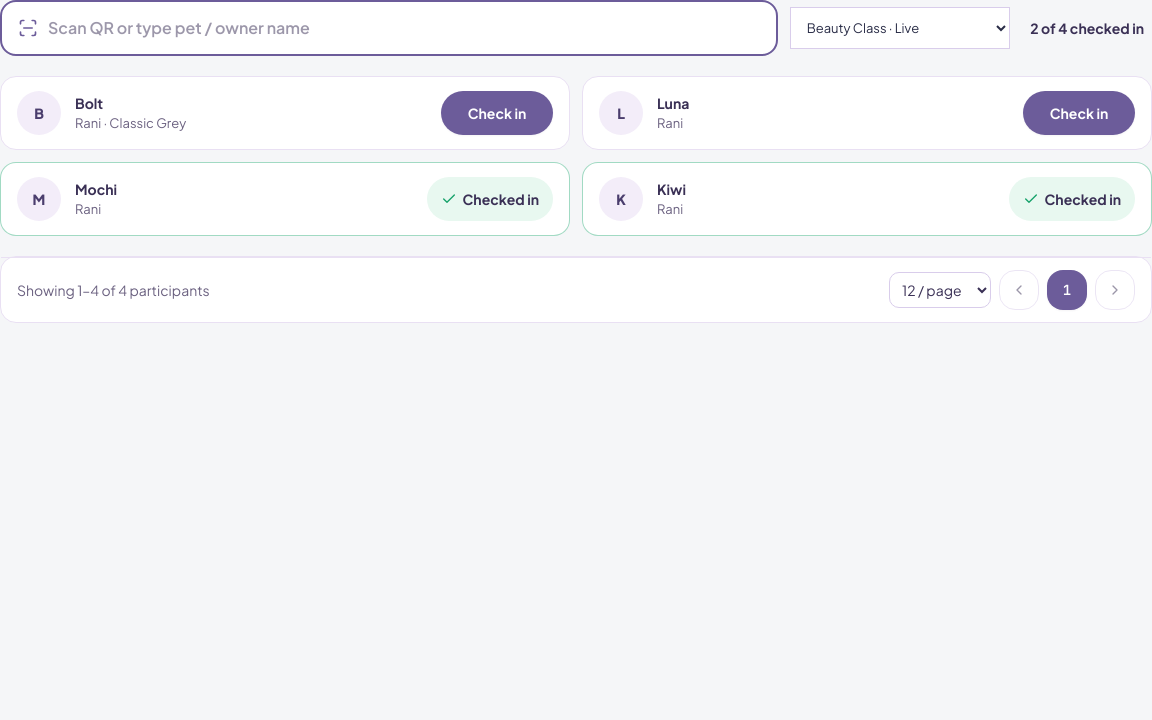
Test: EventParticipants › asks before undoing a check-in, and only where the API allows it
Click the button with aria-label "Checked in: Mochi. Undo" at (490, 199), box top-left (426, 177), bottom-right (553, 221)
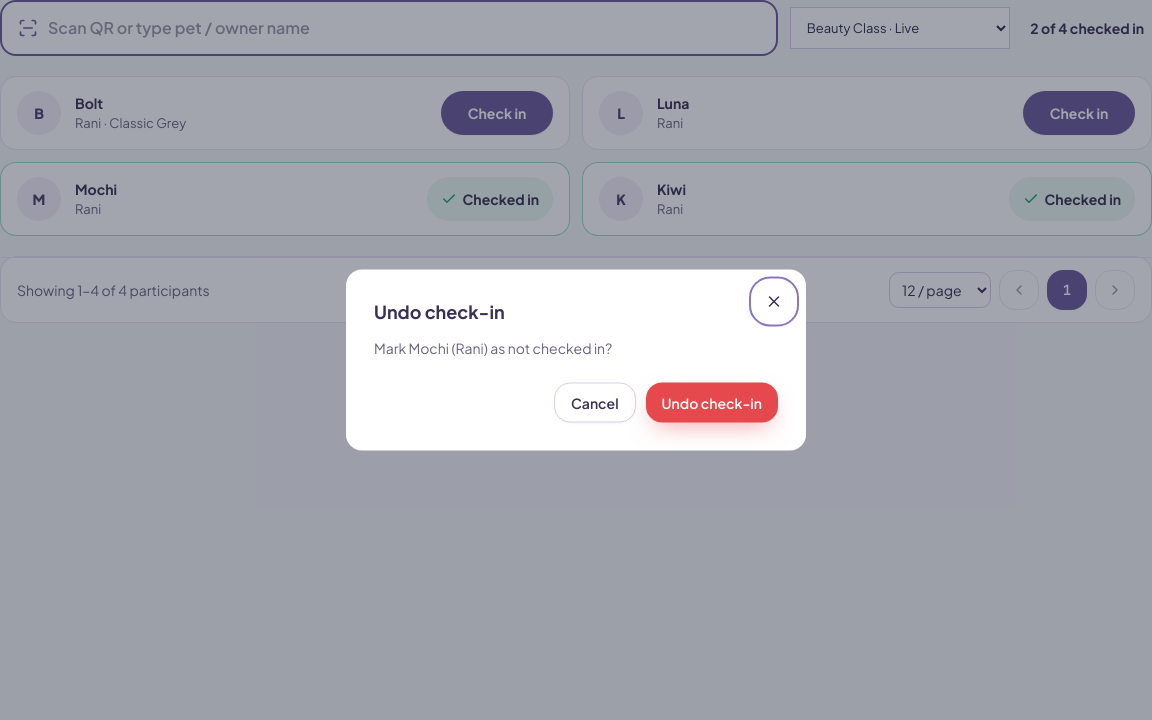
Click the button "Undo check-in" at (712, 402), box top-left (646, 382), bottom-right (778, 422)
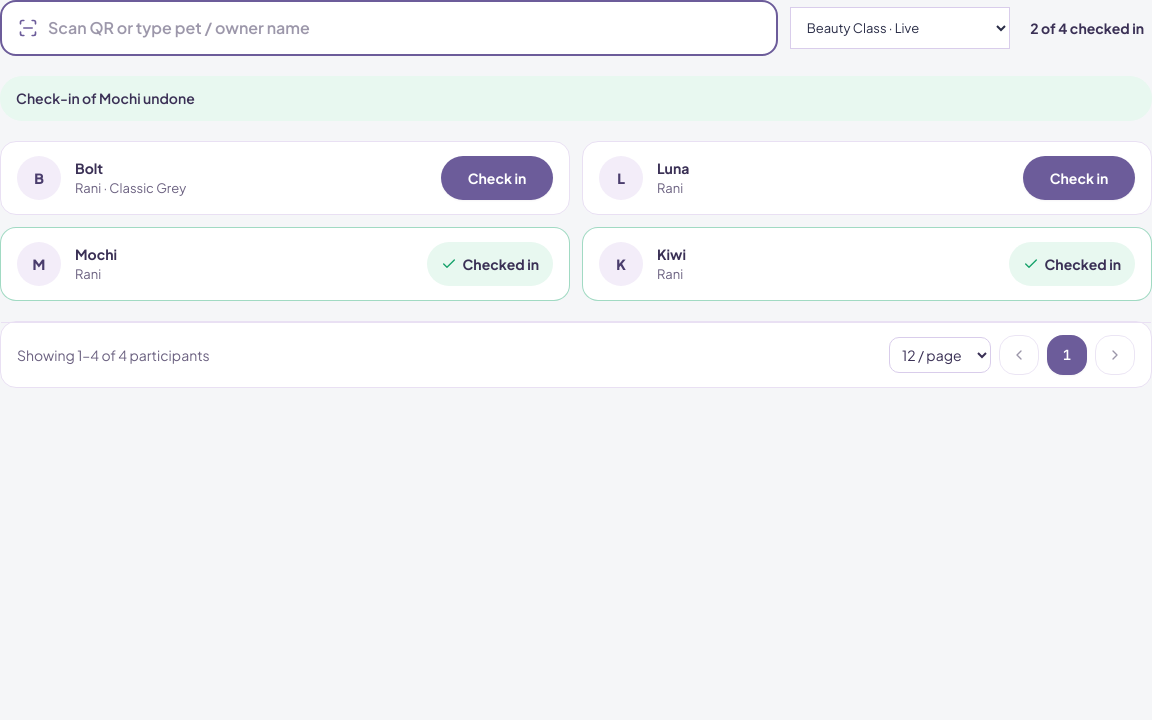
Expected: the text "Checked in" is shown, top-left (1008, 242), bottom-right (1135, 286)
Expected: the button "Cancel" is gone
